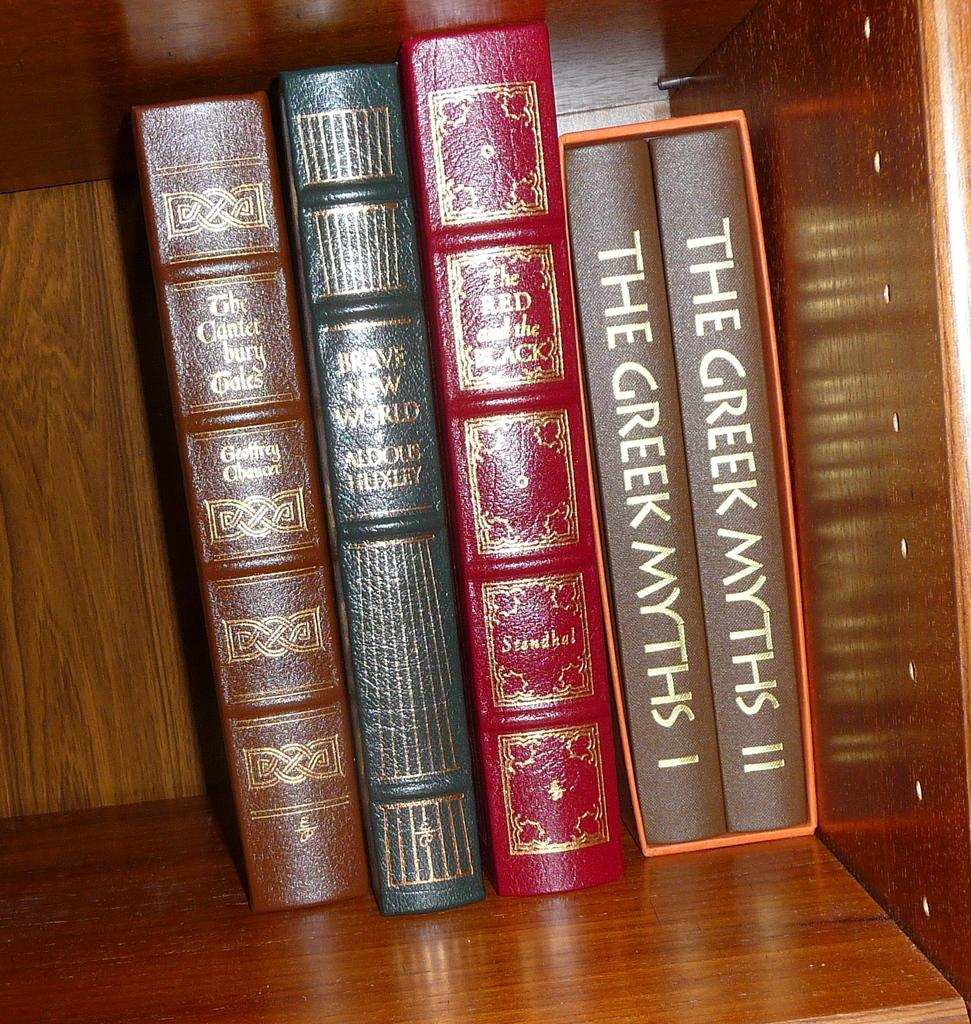Book: (69, 48, 915, 944)
